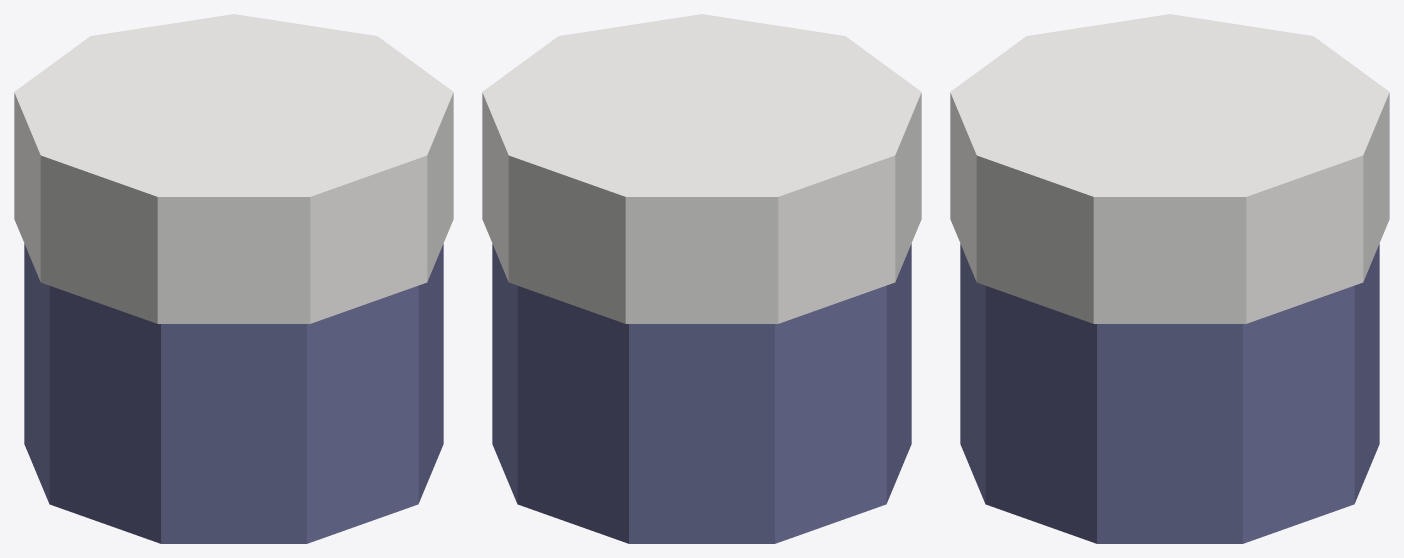
3 views of the same model, side by side, from view 1: azimuth 30°, elevation 25°; view 2: azimuth 150°, elevation 25°; view 3: azimuth 270°, elevation 25° (orthographic).
Parts seen in each view (by area): view 1: Box_1; view 2: Box_1; view 3: Box_1.
Part boxes in pixels (x1,y1,x2,y2): Box_1: (14, 14, 453, 543); Box_1: (482, 14, 921, 543); Box_1: (950, 14, 1389, 543).
Size of the model in its own units: 19.92 by 20.23 by 17.83.
